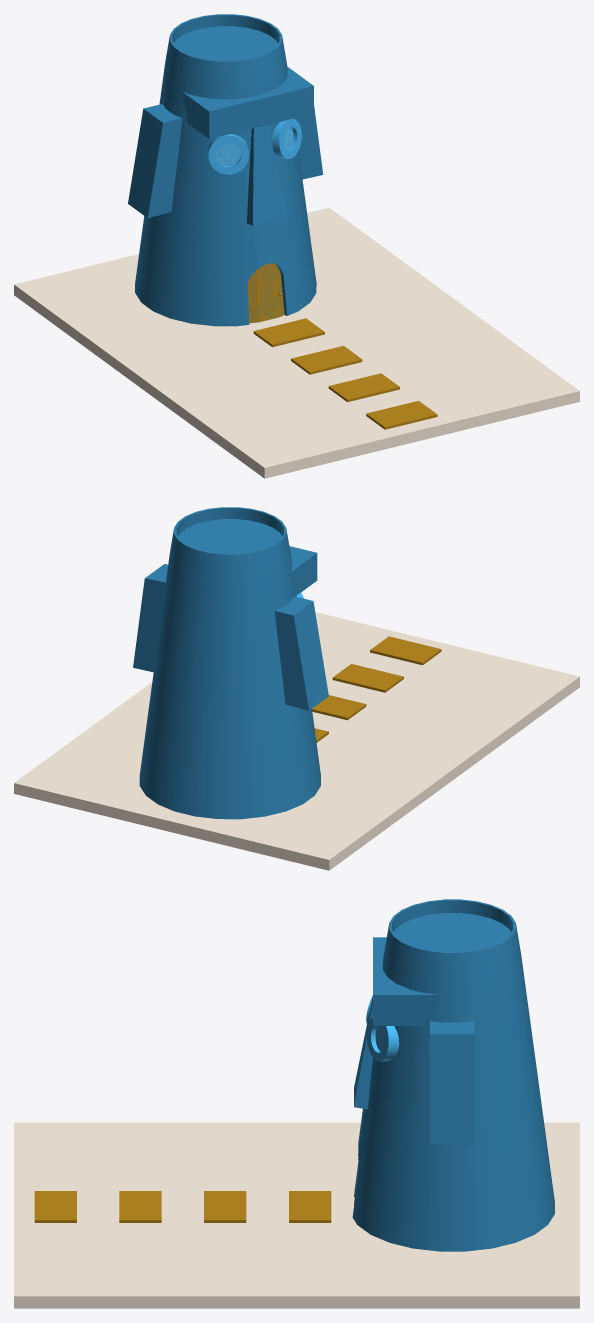
Rendered from Squidward House.fbx.
3 views of the same model, one above another, from view 1: azimuth 30°, elevation 25°; view 2: azimuth 150°, elevation 25°; view 3: azimuth 270°, elevation 25° (orthographic). The views are drawn at different scales.
Parts seen in each view (by area): view 1: SketchUp, group_2.001, group_4, group_1, group_2, group_3, group_0, SketchUp.001, SketchUp.002, SketchUp.003, SketchUp.004, group_2.003 (+2 smaller); view 2: SketchUp, group_2.001, group_1, group_2, group_0, SketchUp.003, SketchUp.001, group_4, SketchUp.002; view 3: SketchUp, group_2.001, group_0, group_2, group_4, SketchUp.001, SketchUp.002, SketchUp.003, SketchUp.004, group_3, group_6.001.
Part boxes in pixels (left/top/right/bottom): SketchUp: left=14, top=207, right=579, bottom=478; group_2.001: left=135, top=14, right=316, bottom=326; group_4: left=181, top=66, right=313, bottom=138; group_1: left=128, top=104, right=182, bottom=218; group_2: left=172, top=15, right=279, bottom=60; group_3: left=246, top=125, right=286, bottom=225; group_0: left=294, top=106, right=323, bottom=179; SketchUp.001: left=366, top=400, right=437, bottom=429; SketchUp.002: left=291, top=346, right=362, bottom=374; SketchUp.003: left=328, top=373, right=399, bottom=402; SketchUp.004: left=253, top=318, right=324, bottom=347; group_2.003: left=256, top=263, right=279, bottom=322; SketchUp: left=14, top=612, right=579, bottom=870; group_2.001: left=139, top=507, right=320, bottom=819; group_1: left=274, top=596, right=328, bottom=710; group_2: left=176, top=508, right=283, bottom=553; group_0: left=133, top=564, right=167, bottom=672; SketchUp.003: left=332, top=664, right=403, bottom=692; SketchUp.001: left=370, top=636, right=441, bottom=665; group_4: left=289, top=546, right=317, bottom=595; SketchUp.002: left=312, top=695, right=366, bottom=720; SketchUp: left=14, top=1122, right=579, bottom=1308; group_2.001: left=352, top=899, right=554, bottom=1251; group_0: left=430, top=1021, right=474, bottom=1144; group_2: left=392, top=900, right=512, bottom=951; group_4: left=373, top=937, right=439, bottom=1025; SketchUp.001: left=34, top=1191, right=76, bottom=1222; SketchUp.002: left=204, top=1191, right=246, bottom=1222; SketchUp.003: left=119, top=1191, right=161, bottom=1222; SketchUp.004: left=289, top=1191, right=331, bottom=1222; group_3: left=354, top=996, right=372, bottom=1109; group_6.001: left=367, top=1017, right=399, bottom=1061.
Bounding box in the file's own units: 1338 × 1057 × 1842.
